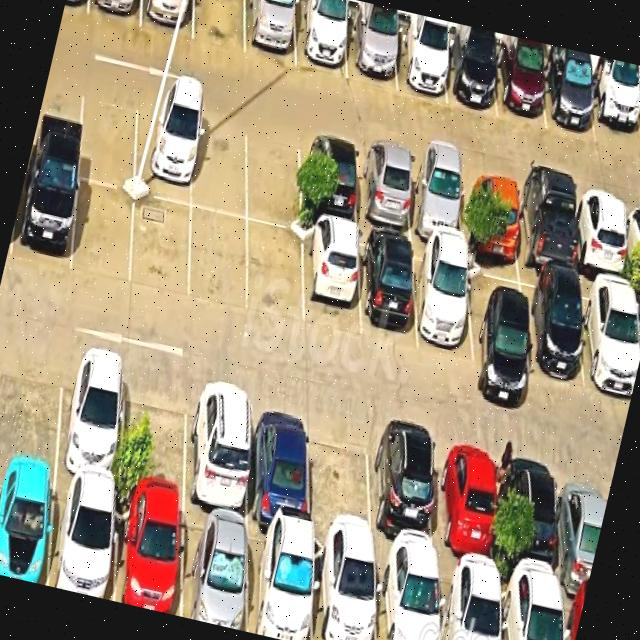empty: (120, 361, 188, 506), (0, 333, 64, 472), (310, 407, 372, 549), (71, 179, 135, 284), (78, 80, 138, 189), (131, 194, 191, 301), (189, 207, 247, 312), (191, 108, 246, 217), (247, 119, 300, 231), (247, 222, 302, 325), (193, 0, 245, 53)
occupied: (55, 345, 125, 489), (369, 420, 437, 563), (185, 377, 250, 520), (435, 433, 495, 577), (248, 391, 309, 531), (48, 477, 116, 601), (115, 493, 181, 616), (181, 508, 247, 631), (507, 447, 561, 589), (247, 523, 312, 640), (10, 161, 78, 272), (466, 258, 528, 375), (519, 269, 583, 382), (578, 277, 638, 395), (413, 244, 473, 362), (134, 94, 196, 205), (559, 460, 609, 594), (359, 231, 417, 346), (0, 466, 55, 585), (313, 537, 376, 640), (304, 220, 359, 336), (515, 179, 575, 275), (375, 554, 439, 640), (461, 167, 519, 260), (300, 132, 357, 226), (407, 154, 463, 245), (356, 144, 412, 235), (574, 190, 628, 281), (586, 65, 640, 153), (543, 51, 595, 142), (438, 565, 500, 640), (495, 41, 546, 128), (443, 34, 497, 116), (393, 22, 446, 103), (294, 0, 347, 78), (500, 578, 562, 640), (347, 11, 396, 88), (245, 0, 295, 67), (140, 0, 194, 39), (87, 0, 141, 26), (624, 200, 640, 282)
